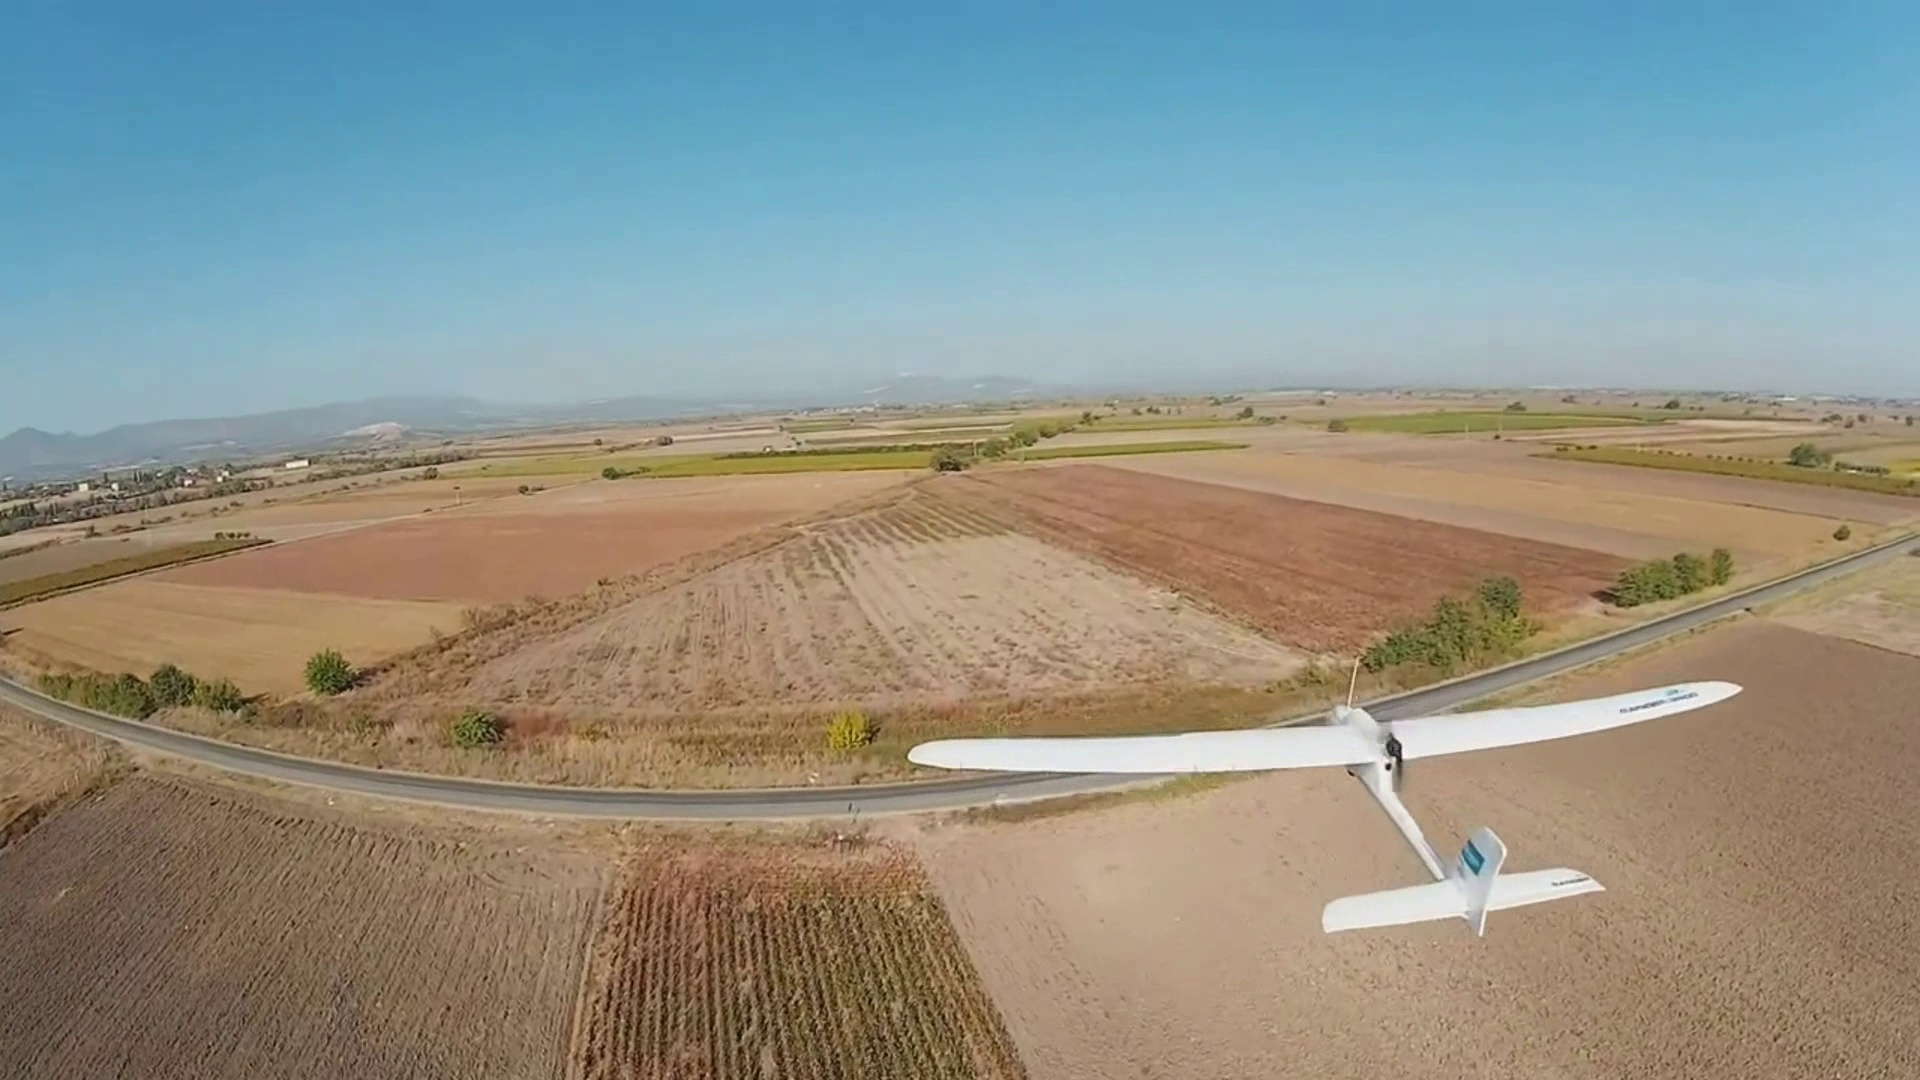airplane: (898, 510, 1913, 934)
